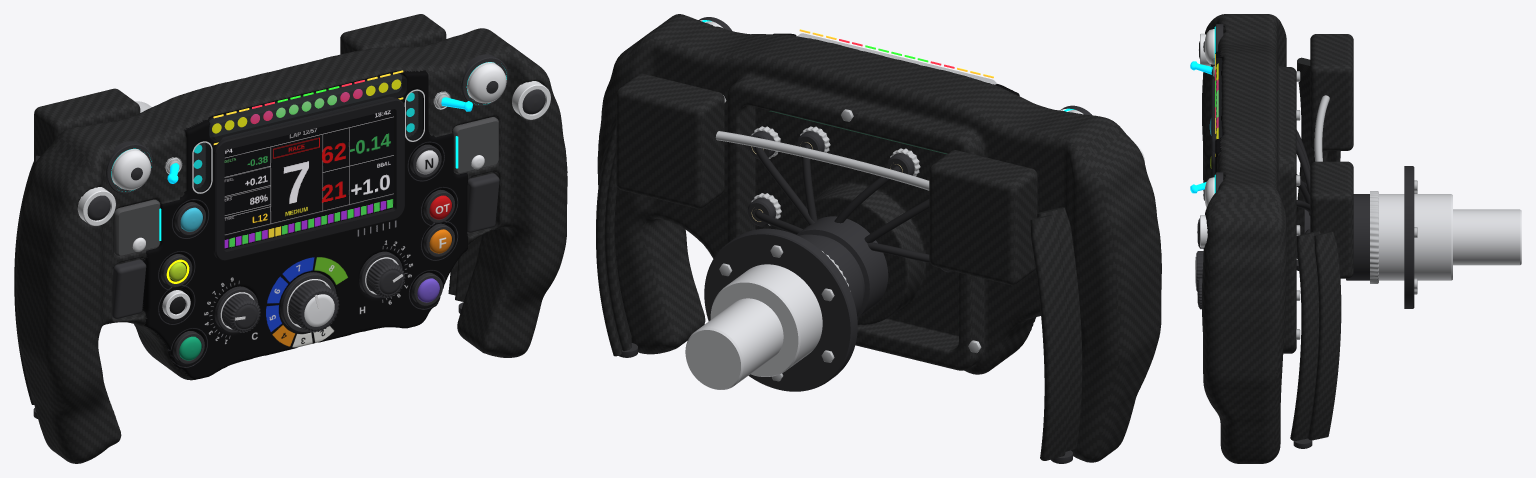
The model's file is VolanteClaudio.glb.
3 views of the same model, side by side, from view 1: azimuth 30°, elevation 25°; view 2: azimuth 150°, elevation 25°; view 3: azimuth 270°, elevation 25° (orthographic). The views are drawn at different scales.
Visible parts, largest first — view 1: Shell_Carbon_and_Fascia, Display_Glass, Display_Bezel, RevLights_Lens, Paddle_Mount_L, Paddle_Mount_R, RevLights_Backplate, Panel_L, Panel_R, Dial_centre_Knob, TopKnob_R, TopKnob_L (+21 smaller); view 2: Shell_Carbon_and_Fascia, Paddle_Mount_R, Paddle_Mount_L, Hub_Flange, Paddle_Clutch_L, Rear, Hub_Spigot, Hub_Shaft, Hub_Body, Paddle_Shift_L, Paddle_Clutch_R, Paddle_VBar (+2 smaller); view 3: Shell_Carbon_and_Fascia, Hub_Shaft, Paddle_Mount_L, Paddle_Clutch_R, Hub_Spigot, Paddle_Mount_R, Paddle_Shift_R, Hub_Flange, Hub_Body, Paddle_Shift_L, Rear, Hub_LockRing (+5 smaller).
Boxes of the visible parts, <box> form: Shell_Carbon_and_Fascia: <box>16,28,567,463</box>; Display_Glass: <box>224,109,393,249</box>; Display_Bezel: <box>213,96,404,260</box>; RevLights_Lens: <box>209,73,406,140</box>; Paddle_Mount_L: <box>34,88,140,159</box>; Paddle_Mount_R: <box>340,14,446,54</box>; RevLights_Backplate: <box>209,73,401,137</box>; Panel_L: <box>114,199,161,256</box>; Panel_R: <box>452,117,498,174</box>; Dial_centre_Knob: <box>288,280,339,332</box>; TopKnob_R: <box>461,54,508,106</box>; TopKnob_L: <box>106,141,152,193</box>; Shell_Carbon_and_Fascia: <box>597,14,1161,462</box>; Paddle_Mount_R: <box>616,73,724,208</box>; Paddle_Mount_L: <box>929,150,1037,285</box>; Hub_Flange: <box>704,228,857,391</box>; Paddle_Clutch_L: <box>1030,214,1070,460</box>; Rear: <box>723,95,981,353</box>; Hub_Spigot: <box>685,298,783,389</box>; Hub_Shaft: <box>710,264,822,376</box>; Hub_Body: <box>796,216,888,318</box>; Paddle_Shift_L: <box>1037,207,1082,451</box>; Paddle_Clutch_R: <box>596,114,621,356</box>; Paddle_VBar: <box>715,131,929,190</box>; Shell_Carbon_and_Fascia: <box>1202,14,1296,463</box>; Hub_Shaft: <box>1379,194,1452,280</box>; Paddle_Mount_L: <box>1310,34,1353,150</box>; Paddle_Clutch_R: <box>1308,231,1341,440</box>; Hub_Spigot: <box>1453,209,1521,265</box>; Paddle_Mount_R: <box>1310,161,1353,278</box>; Paddle_Shift_R: <box>1290,231,1320,440</box>; Hub_Flange: <box>1404,166,1417,308</box>; Hub_Body: <box>1304,194,1369,280</box>; Paddle_Shift_L: <box>1296,57,1327,258</box>; Rear: <box>1296,71,1310,339</box>; Hub_LockRing: <box>1370,191,1378,283</box>.
Bounding box in the file's own units: 0.2833 × 0.1698 × 0.1834.
26 materials, 4 textured.
